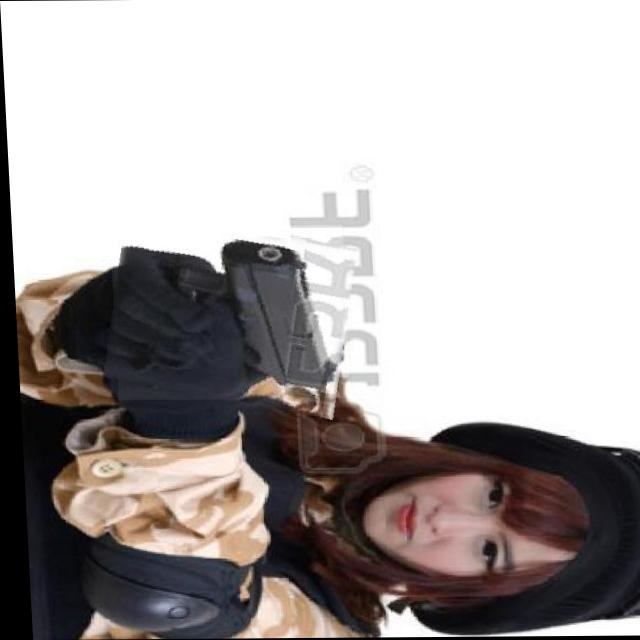handgun: (100, 214, 354, 410)
